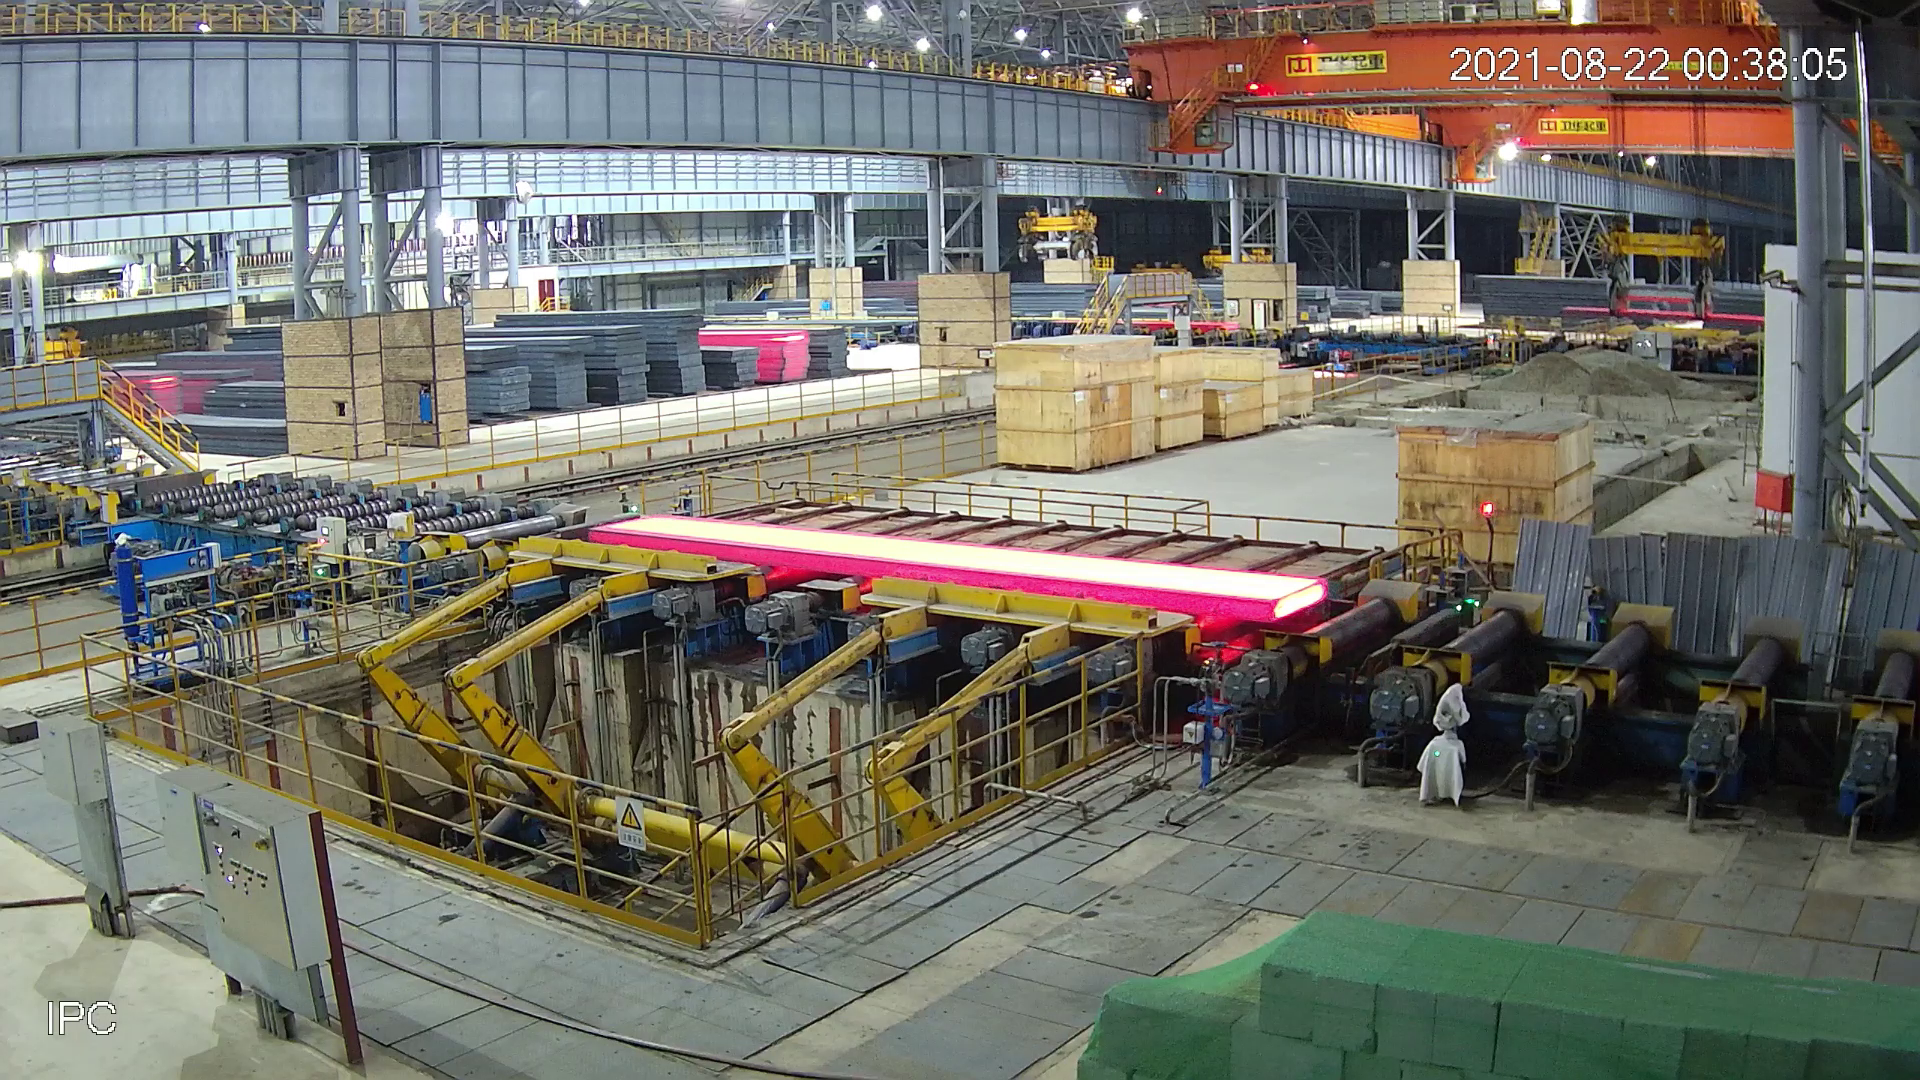slab: (578, 506, 1331, 626)
